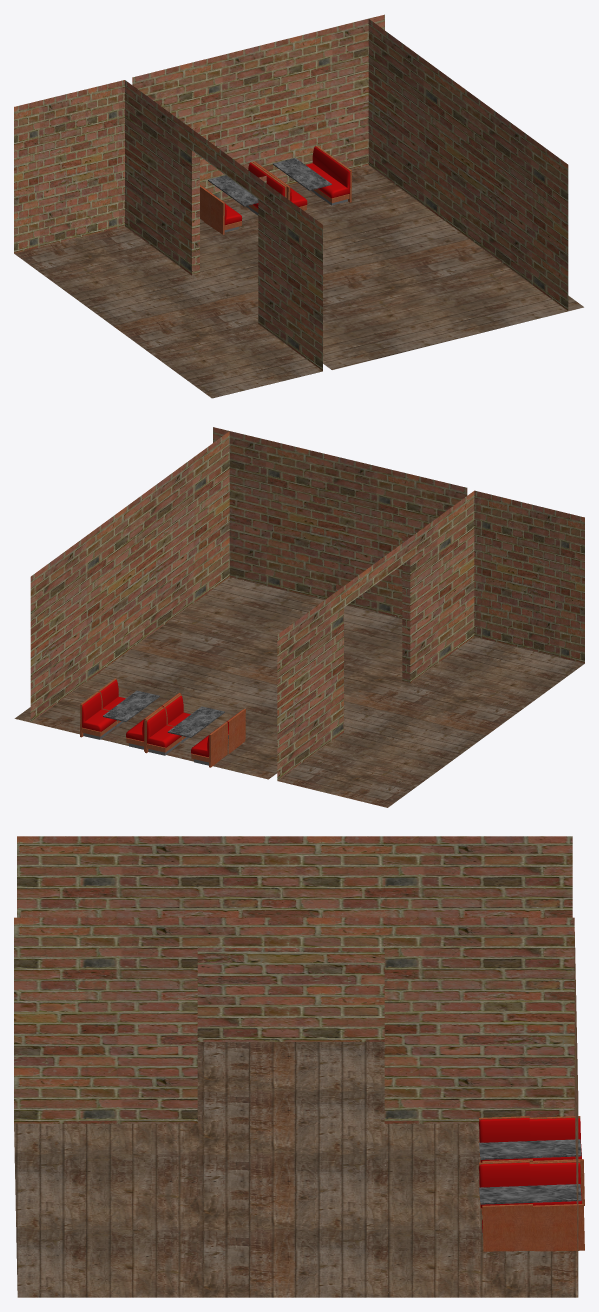
File: room2.glb
3 views of the same model, one above another, from view 1: azimuth 30°, elevation 25°; view 2: azimuth 150°, elevation 25°; view 3: azimuth 270°, elevation 25° (orthographic). The views are drawn at different scales.
Parts seen in each view (by area): view 1: Plane, Material2.001, Material2.010, Material2.055, Material2.066; view 2: Plane, Material2.066, Material2.001, Material2.060, Material2.007, Material2.064, Material2.055; view 3: Plane, Material2.009, Material2.006, Material2.001, Material2.066, Material2.013, Material2.054, Material2.004, Material2.063.
Boxes of the visible parts, x1=… form: Plane: x1=14, y1=14, x2=583, y2=398; Material2.001: x1=272, y1=158, x2=331, y2=190; Material2.010: x1=318, y1=158, x2=350, y2=198; Material2.055: x1=203, y1=189, x2=241, y2=234; Material2.066: x1=208, y1=175, x2=258, y2=206; Plane: x1=14, y1=427, x2=584, y2=807; Material2.066: x1=167, y1=706, x2=224, y2=737; Material2.001: x1=103, y1=690, x2=159, y2=721; Material2.060: x1=147, y1=708, x2=181, y2=747; Material2.007: x1=82, y1=692, x2=116, y2=731; Material2.064: x1=191, y1=722, x2=227, y2=767; Material2.055: x1=227, y1=709, x2=245, y2=753; Plane: x1=14, y1=836, x2=578, y2=1297; Material2.009: x1=482, y1=1204, x2=534, y2=1251; Material2.006: x1=533, y1=1204, x2=584, y2=1251; Material2.001: x1=479, y1=1184, x2=581, y2=1204; Material2.066: x1=479, y1=1139, x2=581, y2=1159; Material2.013: x1=479, y1=1162, x2=531, y2=1208; Material2.054: x1=479, y1=1118, x2=531, y2=1162; Material2.004: x1=529, y1=1162, x2=581, y2=1205; Material2.063: x1=529, y1=1118, x2=581, y2=1160.
Bounding box in the file's own units: 5.08 × 1.92 × 4.8.
Materials: 10 (6 with a texture image).
